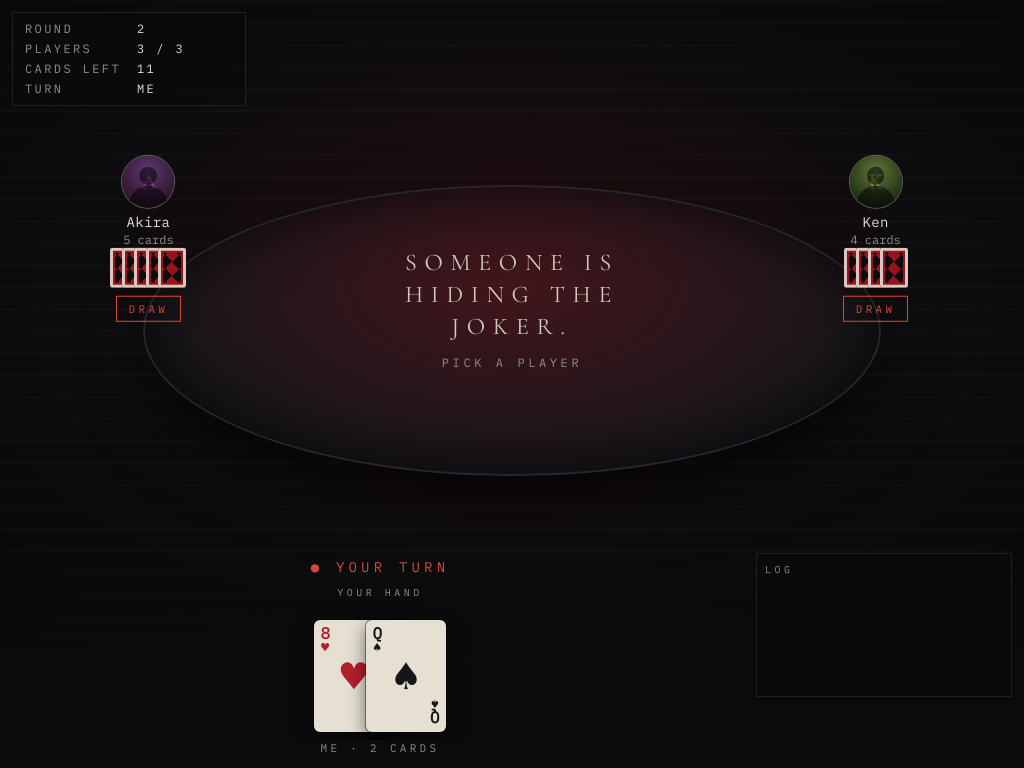
Test: opponent slots render in the server's shuffled order › renders exactly the slots the server issued
Click the button with aria-label "draw from akira, 5 cards". click: click(148, 239)
box: [76,155,220,322]
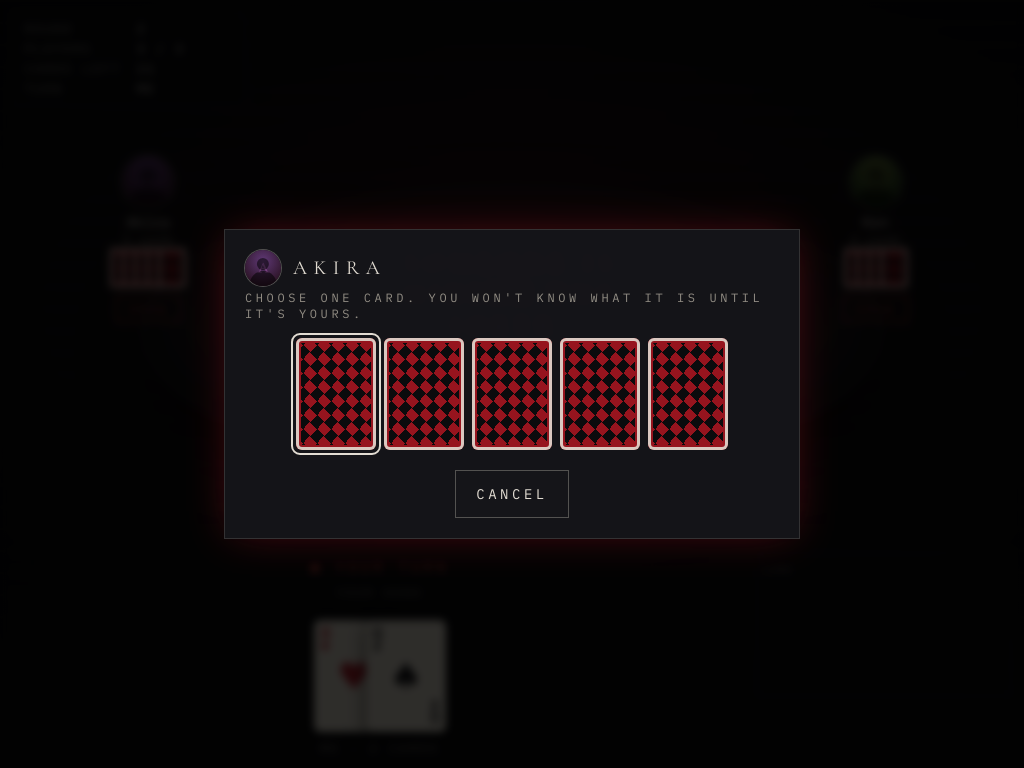
expect the number of buttons named "Card 1 of 5" is 5: met, box [296,338,376,450]; [384,338,464,450]; [472,338,552,450]; [560,338,640,450]; [648,338,728,450]
